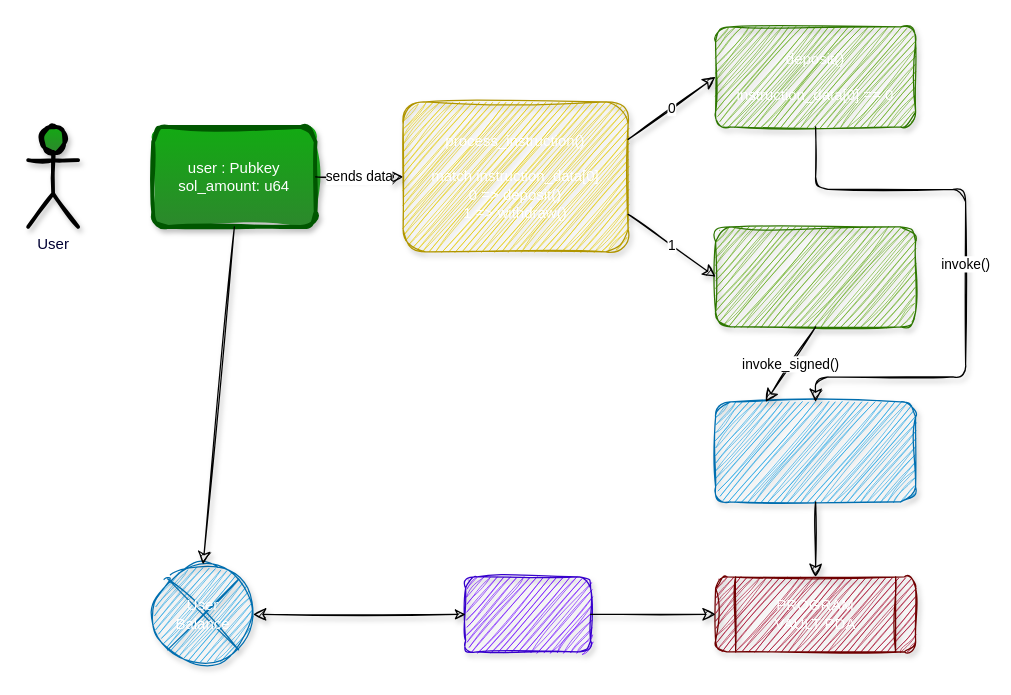
This 1011x695 diagram has some shape labels left out. Each missing label, with the centre of its shape:
SOL: (x=528, y=616)
solana_program:: system_instruction:: transfer: (x=816, y=453)
withdraw() instruction_data[0] == 1: (x=816, y=278)
